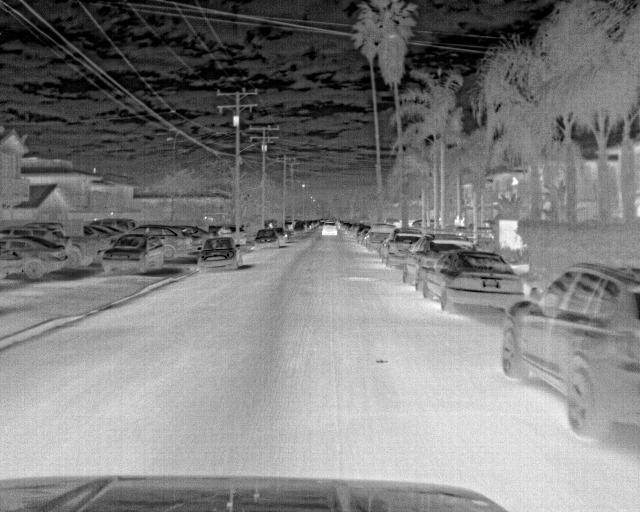car: (501, 262, 639, 441), (420, 249, 525, 319), (0, 227, 96, 266), (0, 235, 68, 282), (402, 240, 466, 288), (100, 232, 166, 275), (131, 225, 194, 261), (381, 229, 425, 272), (195, 234, 242, 273), (84, 217, 137, 233), (366, 223, 395, 250), (252, 232, 282, 252), (321, 223, 343, 239)
